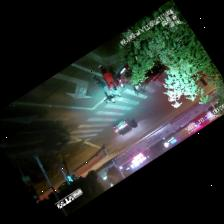person: (98, 64, 120, 91), (92, 74, 112, 97), (95, 81, 115, 102)
